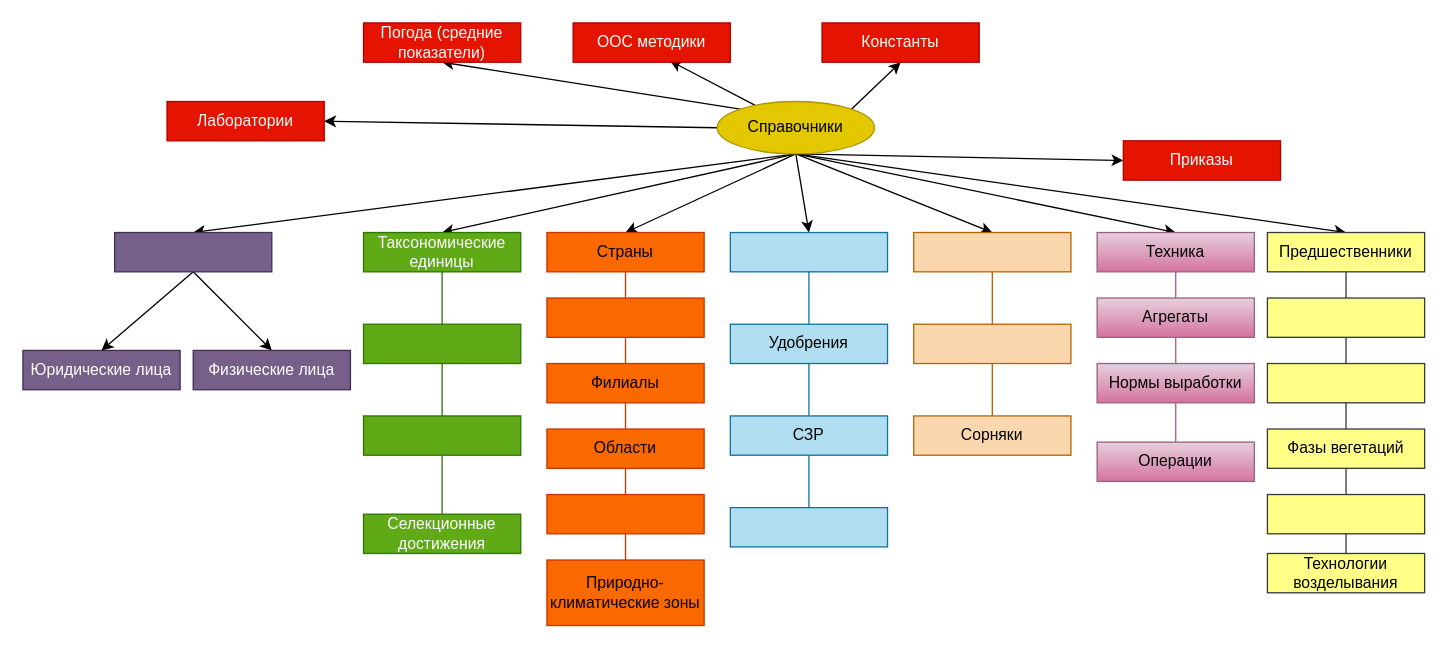
This 1448x648 diagram has some shape labels left out. Each missing label, with the centre of its shape:
"Блоки реестра" belongs at (x=441, y=343).
"Болезни" belongs at (x=991, y=251).
"Вредители" belongs at (x=991, y=343).
"ГСУ" belongs at (x=625, y=513).
"Макро- и микроэлементы" belongs at (x=808, y=526).
"Нормы выноса" belongs at (x=1345, y=382).
"Нормы высева" belongs at (x=1345, y=317).
"Оптимальные сроки высева" belongs at (x=1345, y=513).
"Регионы возделывания" belongs at (x=625, y=317).
"Роды, виды, культуры, породы" belongs at (x=441, y=435).
"Субъекты" belongs at (x=192, y=251).
"Типы почв" belongs at (x=808, y=251).
